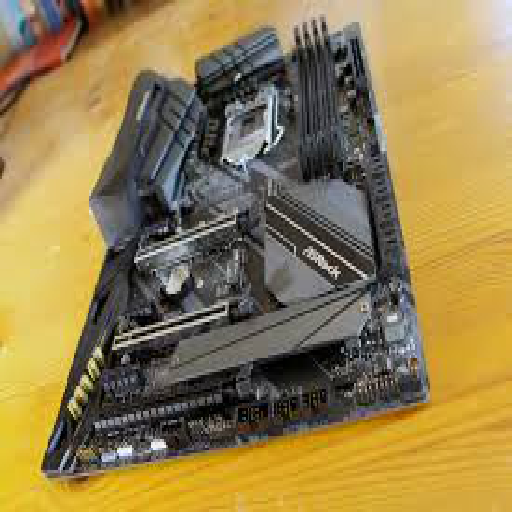CPU: (221, 85, 274, 167)
GPU: (94, 364, 253, 434), (135, 199, 261, 270), (110, 295, 253, 354)
MOTHERBOARD: (42, 20, 434, 483)
RAM: (293, 14, 344, 183)
SSD: (228, 254, 248, 290), (265, 178, 277, 198)
